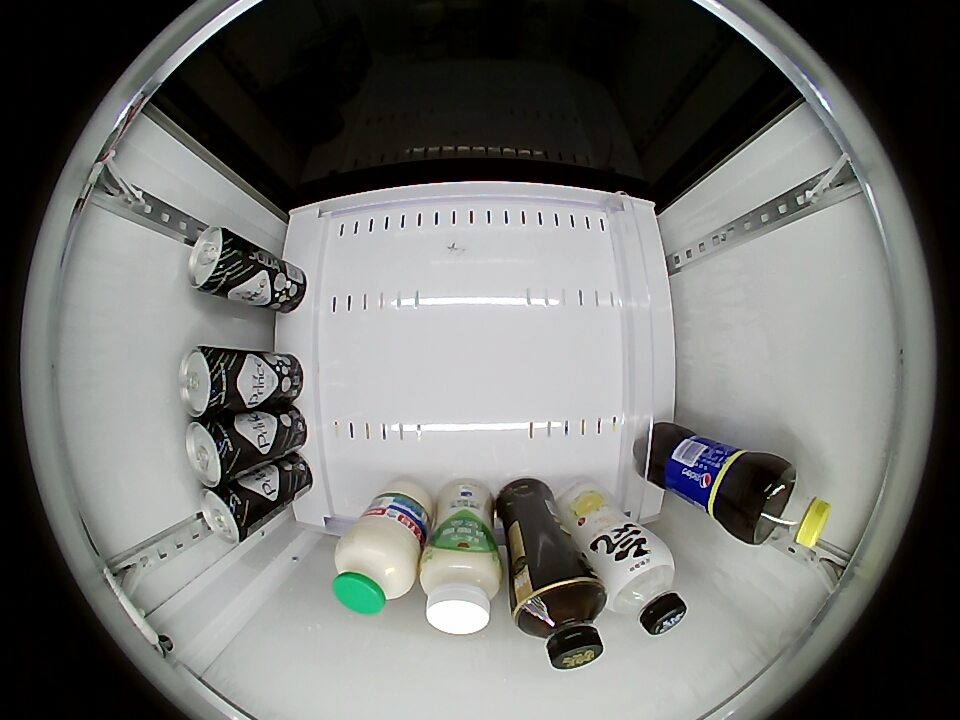baishikele: (744, 462, 833, 550)
liziyuan: (333, 517, 420, 616)
qingdaowangzi-1: (178, 346, 238, 418), (184, 417, 245, 486), (187, 226, 245, 296), (198, 485, 255, 544)
rancha-1: (513, 575, 606, 671)
yousuanru: (420, 543, 502, 635)
yuanqishui: (598, 539, 688, 635)
